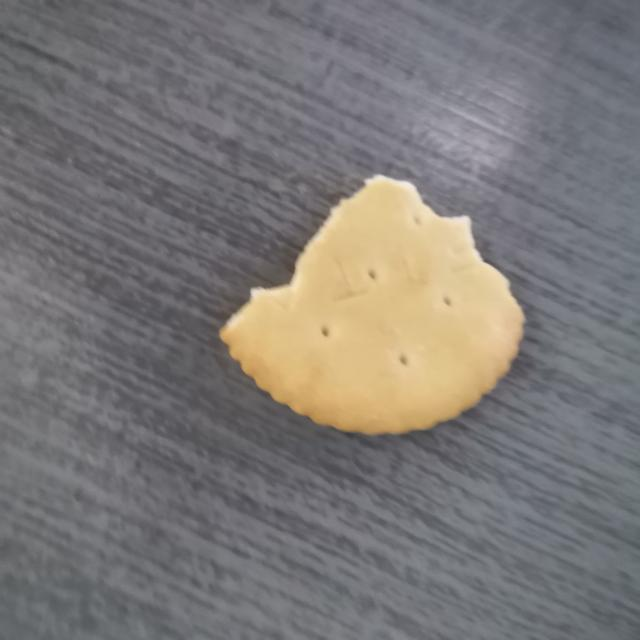Broken: (219, 172, 525, 436)
